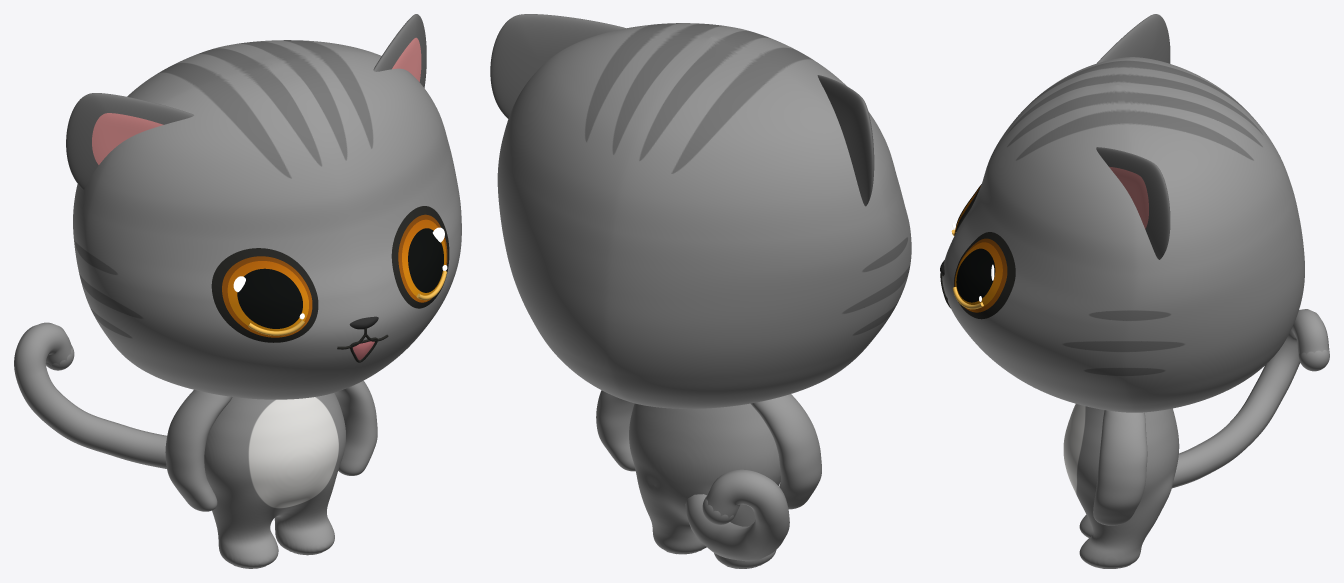
Rendered from CatGray_IP.glb.
3 renders of one model, left to right at view 1: azimuth 30°, elevation 25°; view 2: azimuth 150°, elevation 25°; view 3: azimuth 270°, elevation 25°, orthographic. The views are drawn at different scales.
Parts seen in each view (by area): view 1: Head • continuous shaped surface.001, Body • continuous bare skin and painted oval belly.001, Tail • continuous upright curl.001, Ear L • reference gray shell and smaller pink inset.001, Arm L • independent rounded limb.001, Eye L • pupil.001, Arm R • independent rounded limb.001, Eye L • charcoal socket.001, Ear R • reference gray shell and smaller pink inset.001, Eye R • pupil.001, Eye L • orange iris.001, Eye R • charcoal socket.001 (+3 smaller); view 2: Head • continuous shaped surface.001, Body • continuous bare skin and painted oval belly.001, Tail • continuous upright curl.001, Ear R • reference gray shell and smaller pink inset.001, Arm L • independent rounded limb.001, Ear L • reference gray shell and smaller pink inset.001, Arm R • independent rounded limb.001; view 3: Head • continuous shaped surface.001, Body • continuous bare skin and painted oval belly.001, Tail • continuous upright curl.001, Arm R • independent rounded limb.001, Ear R • reference gray shell and smaller pink inset.001, Ear L • reference gray shell and smaller pink inset.001, Eye R • pupil.001, Eye R • charcoal socket.001, Eye R • orange iris.001, Eye R • amber outer edge.001, Tail • rounded tip.001.
Boxes of the visible parts, x1,y1,x2,y2 form: Head • continuous shaped surface.001: (73, 40, 461, 399); Body • continuous bare skin and painted oval belly.001: (204, 393, 345, 568); Tail • continuous upright curl.001: (14, 322, 166, 468); Ear L • reference gray shell and smaller pink inset.001: (66, 93, 194, 189); Arm L • independent rounded limb.001: (165, 390, 232, 511); Eye L • pupil.001: (237, 268, 302, 328); Arm R • independent rounded limb.001: (334, 380, 377, 475); Eye L • charcoal socket.001: (211, 248, 318, 342); Ear R • reference gray shell and smaller pink inset.001: (373, 14, 426, 87); Eye R • pupil.001: (408, 228, 443, 292); Eye L • orange iris.001: (227, 261, 308, 331); Eye R • charcoal socket.001: (391, 206, 449, 308); Head • continuous shaped surface.001: (497, 23, 911, 408); Body • continuous bare skin and painted oval belly.001: (629, 403, 780, 568); Tail • continuous upright curl.001: (685, 469, 789, 561); Ear R • reference gray shell and smaller pink inset.001: (490, 14, 625, 118); Arm L • independent rounded limb.001: (750, 394, 821, 509); Ear L • reference gray shell and smaller pink inset.001: (817, 75, 874, 206); Arm R • independent rounded limb.001: (596, 390, 635, 471); Head • continuous shaped surface.001: (942, 57, 1304, 412); Body • continuous bare skin and painted oval belly.001: (1063, 404, 1179, 568); Tail • continuous upright curl.001: (1172, 309, 1329, 488); Arm R • independent rounded limb.001: (1093, 410, 1147, 525); Ear R • reference gray shell and smaller pink inset.001: (1096, 147, 1170, 259); Ear L • reference gray shell and smaller pink inset.001: (1097, 14, 1170, 63); Eye R • pupil.001: (956, 248, 995, 302); Eye R • charcoal socket.001: (954, 232, 1015, 319); Eye R • orange iris.001: (955, 242, 1002, 306); Eye R • amber outer edge.001: (954, 238, 1007, 312); Tail • rounded tip.001: (1298, 350, 1329, 371).
Size of the model in its own units: 3.54 by 4.57 by 3.49.
Materials: 13 (2 with a texture image).
